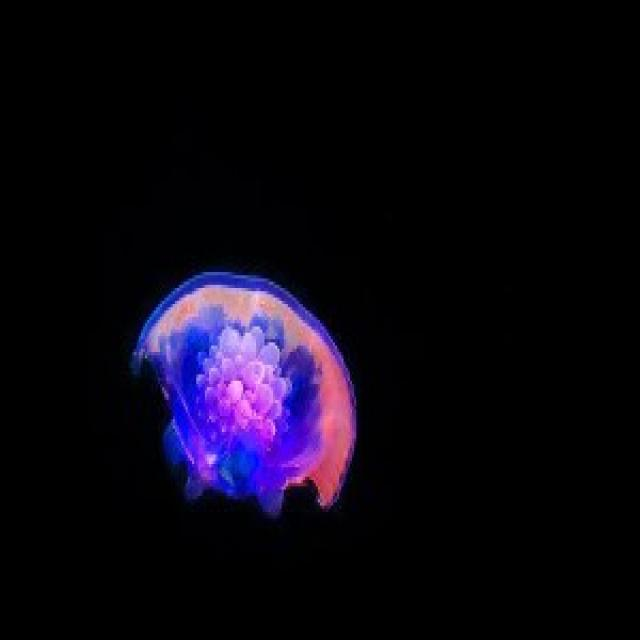Jellyfish: (130, 264, 360, 546)
